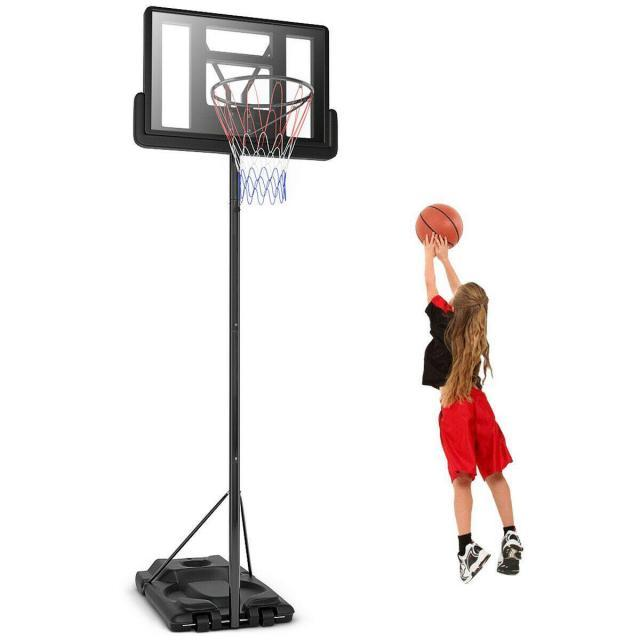Basketball: (416, 203, 464, 250)
hoop: (212, 74, 314, 204)
